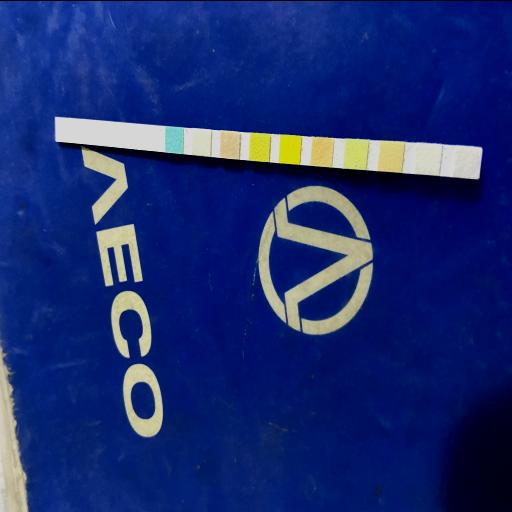Bilirubin: (194, 129, 212, 155)
Blood: (281, 136, 300, 162)
Glucose: (166, 126, 182, 152)
Ketone: (220, 132, 238, 158)
Leukocytes: (456, 146, 480, 176)
Nitrite: (416, 143, 438, 173)
Protein: (346, 140, 366, 168)
SpGravity: (250, 134, 270, 160)
Urobilinogen: (380, 142, 402, 170)
pH: (312, 138, 332, 165)
strip: (56, 116, 483, 179)
